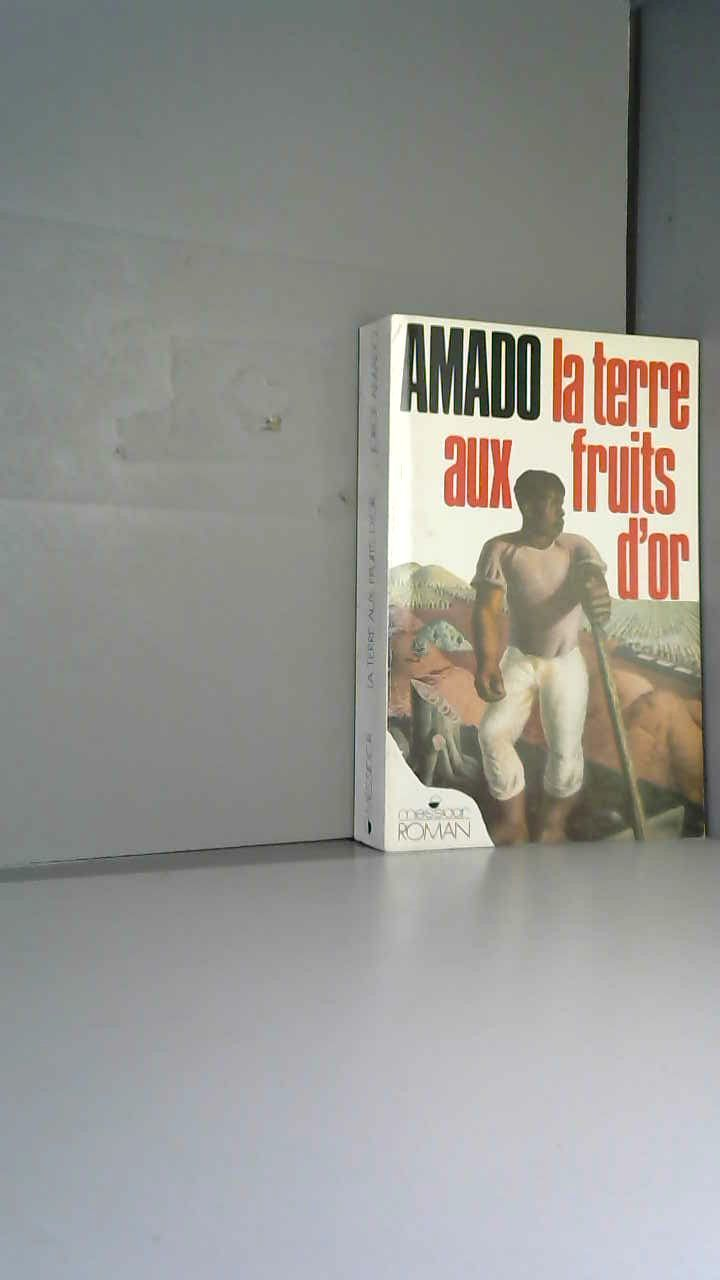book: (360, 290, 719, 903)
